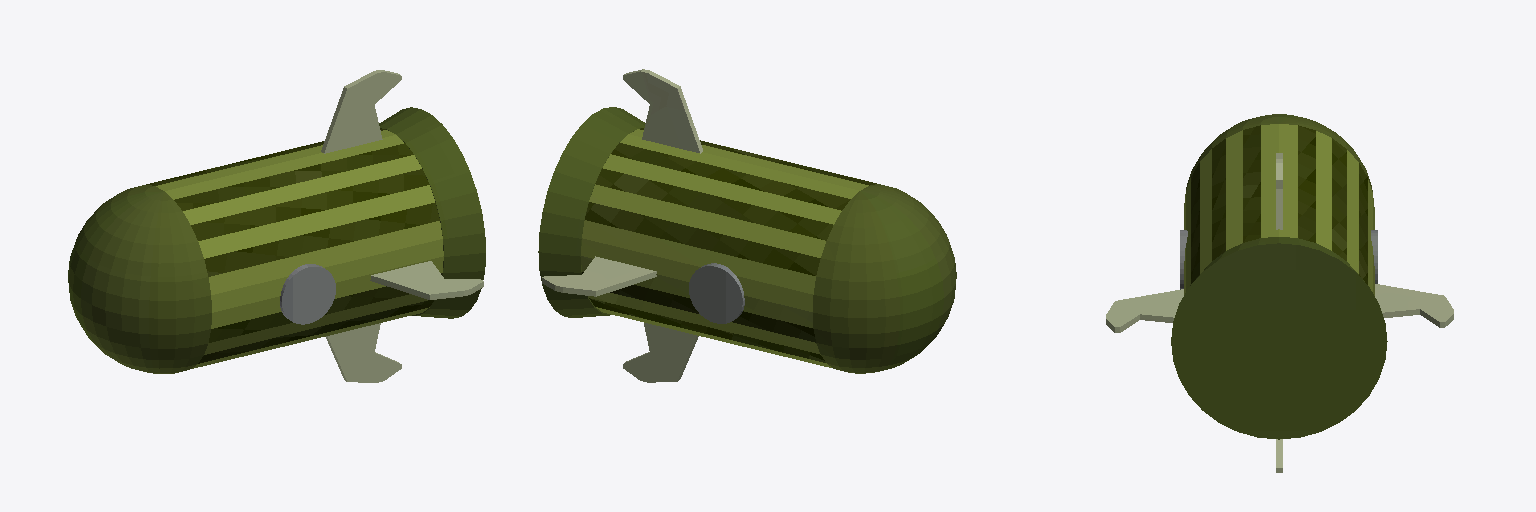
3 views of the same model, side by side, from view 1: azimuth 30°, elevation 25°; view 2: azimuth 150°, elevation 25°; view 3: azimuth 270°, elevation 25° (orthographic).
Parts seen in each view (by area): view 1: Cuerpo, Eje; view 2: Cuerpo, Eje; view 3: Cuerpo, Eje.
Boxes of the visible parts, x1,y1,x2,y2 form: Cuerpo: [68, 70, 485, 382]; Eje: [280, 264, 335, 324]; Cuerpo: [538, 69, 956, 382]; Eje: [689, 263, 744, 323]; Cuerpo: [1106, 114, 1453, 472]; Eje: [1180, 230, 1377, 289].
Size of the model in its own units: 13.59 by 11.44 by 11.66.
Materials: 2 (1 with a texture image).